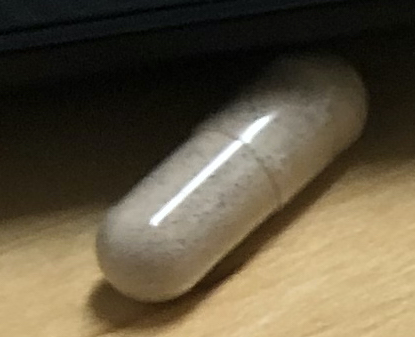capsule: (95, 47, 370, 303)
